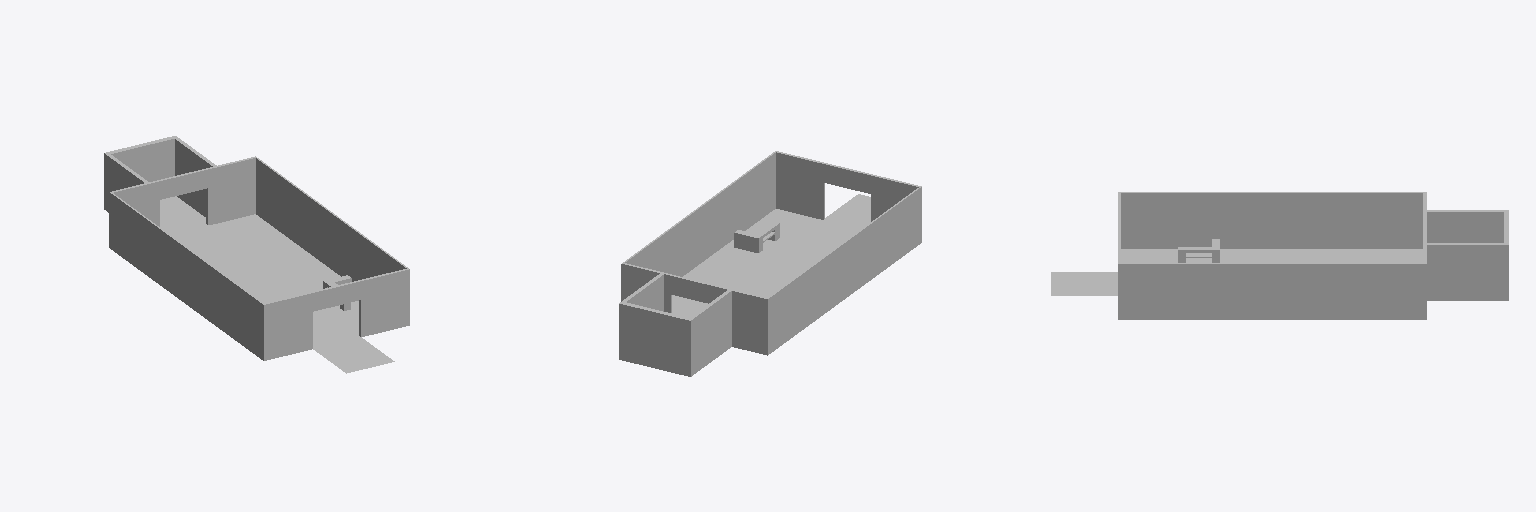
The model's file is FirstFloor.obj.
The picture shows the model from 3 angles: view 1: azimuth 30°, elevation 25°; view 2: azimuth 150°, elevation 25°; view 3: azimuth 270°, elevation 25°; orthographic projection.
Parts seen in each view (by area): view 1: polySurface1; view 2: polySurface1; view 3: polySurface1.
Boxes of the visible parts, x1=… form: polySurface1: x1=104, y1=136, x2=409, y2=373; polySurface1: x1=619, y1=151, x2=921, y2=376; polySurface1: x1=1051, y1=192, x2=1508, y2=319.
Size of the model in its own units: 40.85 by 15 by 111.